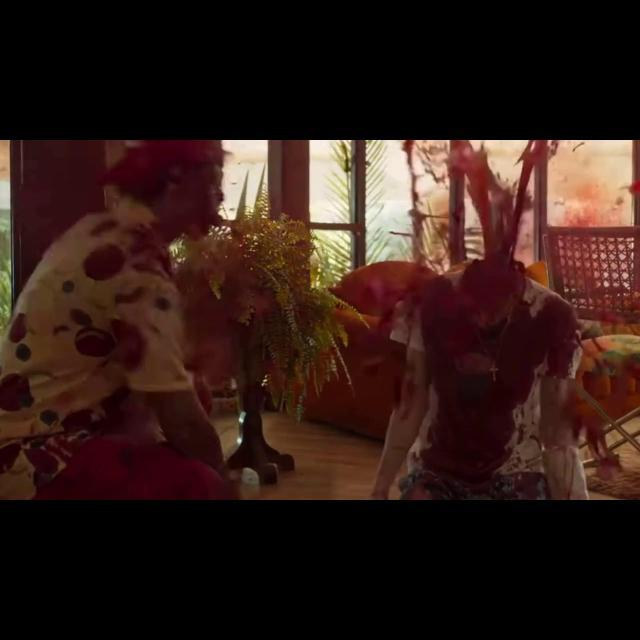blood: (330, 140, 590, 500), (559, 173, 632, 228)
